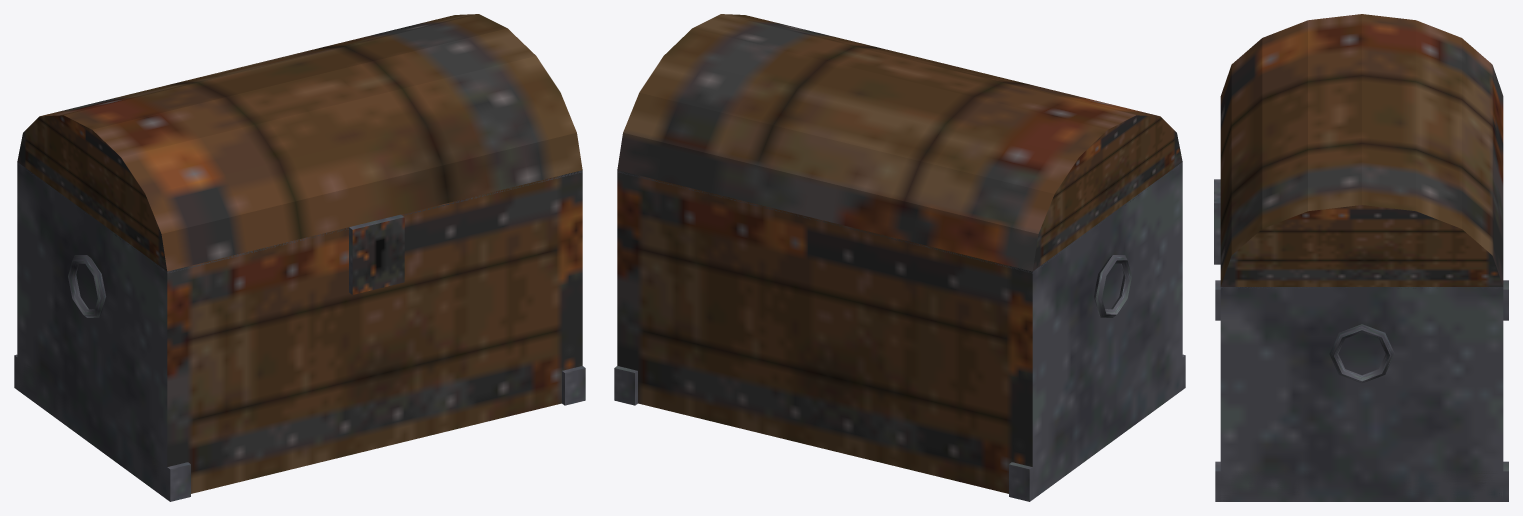
File: chest_wood.obj
3 views of the same model, side by side, from view 1: azimuth 30°, elevation 25°; view 2: azimuth 150°, elevation 25°; view 3: azimuth 270°, elevation 25° (orthographic). The views are drawn at different scales.
Parts seen in each view (by area): view 1: chest_wood, chest_wood_lid; view 2: chest_wood, chest_wood_lid; view 3: chest_wood_lid, chest_wood.
Part boxes in pixels (bbox=[...]): chest_wood: bbox=[14, 162, 585, 501]; chest_wood_lid: bbox=[17, 14, 582, 271]; chest_wood: bbox=[614, 162, 1185, 501]; chest_wood_lid: bbox=[617, 14, 1182, 271]; chest_wood_lid: bbox=[1220, 14, 1503, 286]; chest_wood: bbox=[1214, 179, 1508, 501].
Size of the model in its own units: 0.836 by 0.58 by 0.522.
Materials: 1 (1 with a texture image).
